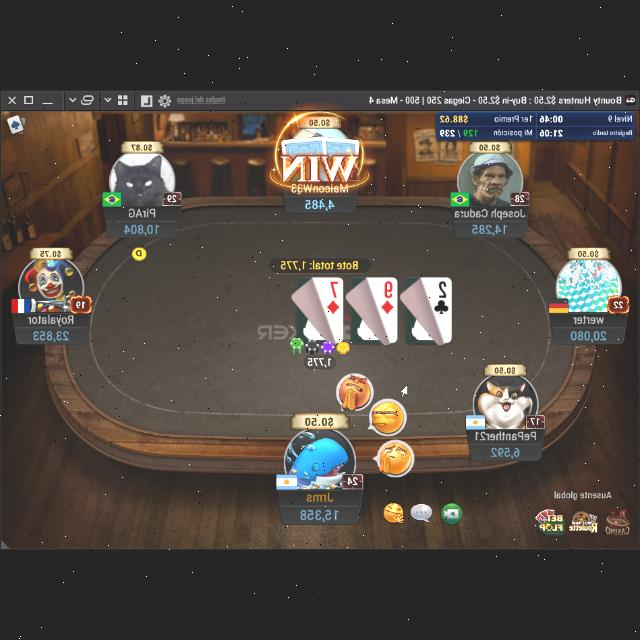2c: (432, 279, 450, 315)
7d: (324, 278, 342, 316)
9d: (379, 278, 395, 316)
bet_text: (306, 354, 334, 368)
card_back: (282, 132, 328, 162), (318, 132, 360, 164)
dealer: (130, 245, 148, 261)
pot_text: (278, 258, 358, 270)
stack_text: (299, 504, 341, 522), (32, 327, 70, 341), (471, 221, 507, 235), (123, 221, 159, 235), (569, 328, 607, 340), (489, 444, 521, 458), (304, 197, 336, 210)
